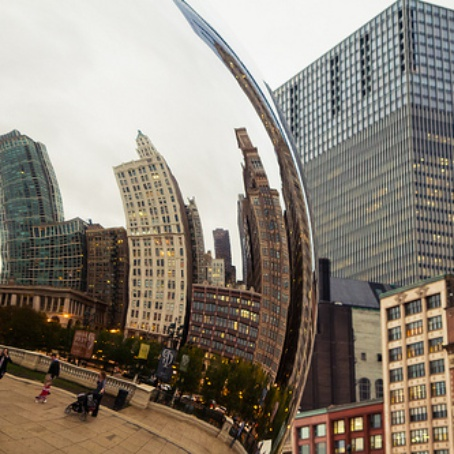building: (271, 23, 454, 281), (117, 130, 203, 350), (1, 108, 94, 301), (371, 286, 454, 454), (243, 122, 295, 384), (185, 280, 267, 363), (268, 399, 387, 454), (80, 220, 135, 324)
